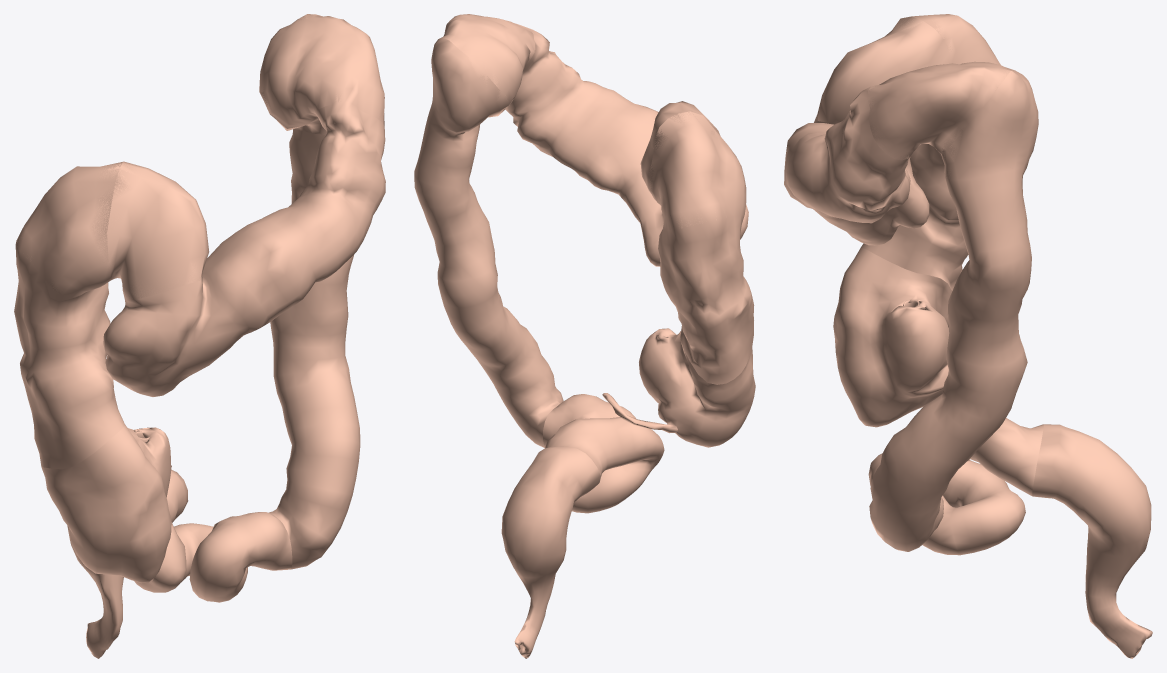
Rendered from sbu_m_intestine_large-100.fbx.
3 renders of one model, left to right at view 1: azimuth 30°, elevation 25°; view 2: azimuth 150°, elevation 25°; view 3: azimuth 270°, elevation 25°, orthographic. The views are drawn at different scales.
Visible parts, largest first — view 1: VH_M_transverse_colon, VH_M_ascending_colon, VH_M_descending_colon, VH_M_caecum, VH_M_hepatic_flexure_of_colon, VH_M_sigmoid_colon, VH_M_splenic_flexure_of_colon, VH_M_rectum; view 2: VH_M_descending_colon, VH_M_ascending_colon, VH_M_transverse_colon, VH_M_rectum, VH_M_caecum, VH_M_sigmoid_colon, VH_M_splenic_flexure_of_colon, VH_M_hepatic_flexure_of_colon, VH_M_vermiform_appendix; view 3: VH_M_descending_colon, VH_M_transverse_colon, VH_M_caecum, VH_M_rectum, VH_M_splenic_flexure_of_colon, VH_M_sigmoid_colon, VH_M_hepatic_flexure_of_colon, VH_M_ascending_colon.
Boxes of the visible parts, x1,y1,x2,y2 form: VH_M_transverse_colon: (103,14,385,396); VH_M_ascending_colon: (14,161,124,469); VH_M_descending_colon: (267,19,360,569); VH_M_caecum: (41,424,171,582); VH_M_hepatic_flexure_of_colon: (17,161,209,300); VH_M_sigmoid_colon: (134,469,292,602); VH_M_splenic_flexure_of_colon: (259,14,384,135); VH_M_rectum: (67,525,123,658); VH_M_descending_colon: (414,38,563,447); VH_M_ascending_colon: (649,111,754,384); VH_M_transverse_colon: (443,14,748,266); VH_M_rectum: (501,446,600,658); VH_M_caecum: (639,328,755,447); VH_M_sigmoid_colon: (543,394,664,513); VH_M_splenic_flexure_of_colon: (432,14,535,135); VH_M_hepatic_flexure_of_colon: (640,101,745,230); VH_M_vermiform_appendix: (602,393,677,433); VH_M_descending_colon: (869,70,1038,551); VH_M_transverse_colon: (784,17,1011,245); VH_M_caecum: (833,247,952,427); VH_M_rectum: (1032,424,1152,658); VH_M_splenic_flexure_of_colon: (868,62,1038,178); VH_M_sigmoid_colon: (868,418,1043,555); VH_M_hepatic_flexure_of_colon: (817,15,1000,123); VH_M_ascending_colon: (861,14,997,290).
Size of the model in its own units: 25.91 by 45.03 by 22.48.
